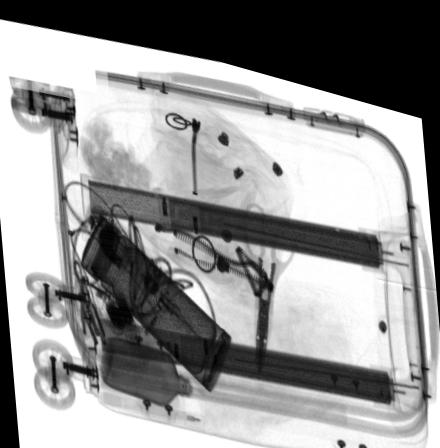Scissors: (242, 183, 295, 364)
